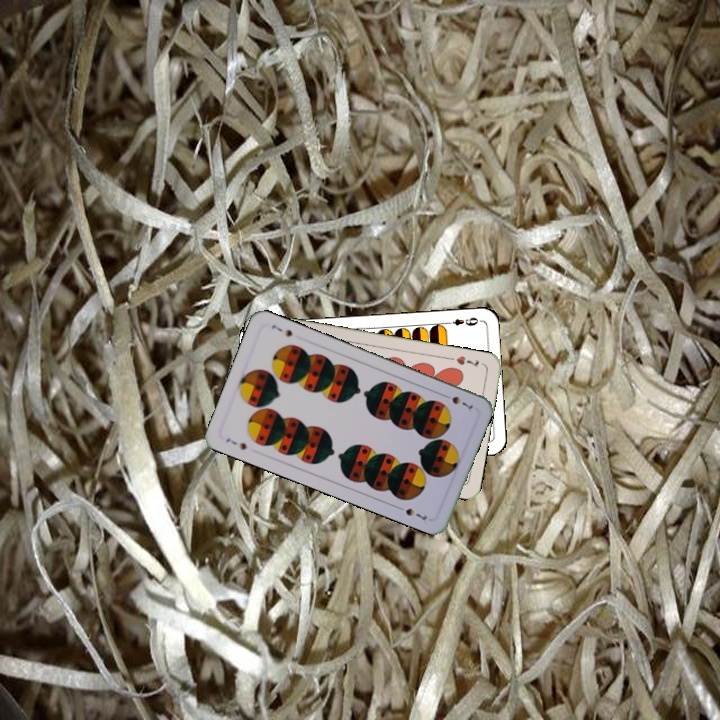E9: (442, 313, 480, 328)
H7: (452, 352, 481, 369)
S7: (439, 390, 475, 411), (222, 434, 249, 452)
